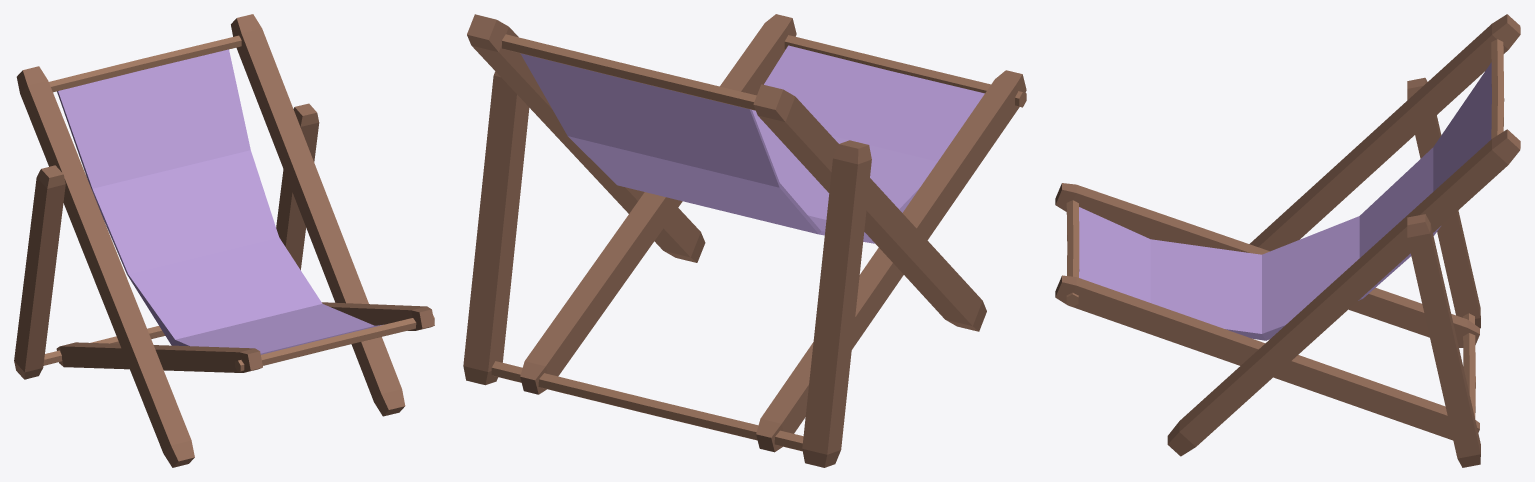
File: Beach_chair_03.fbx
The picture shows the model from 3 angles, left to right: view 1: azimuth 30°, elevation 25°; view 2: azimuth 150°, elevation 25°; view 3: azimuth 270°, elevation 25°; orthographic projection. The views are drawn at different scales.
Visible parts, largest first — view 1: Beach_chair_03; view 2: Beach_chair_03; view 3: Beach_chair_03.
Boxes of the visible parts, x1=… form: Beach_chair_03: x1=14, y1=14, x2=434, y2=467; Beach_chair_03: x1=463, y1=14, x2=1026, y2=467; Beach_chair_03: x1=1055, y1=14, x2=1520, y2=467.
Size of the model in its own units: 103 by 105 by 138.
